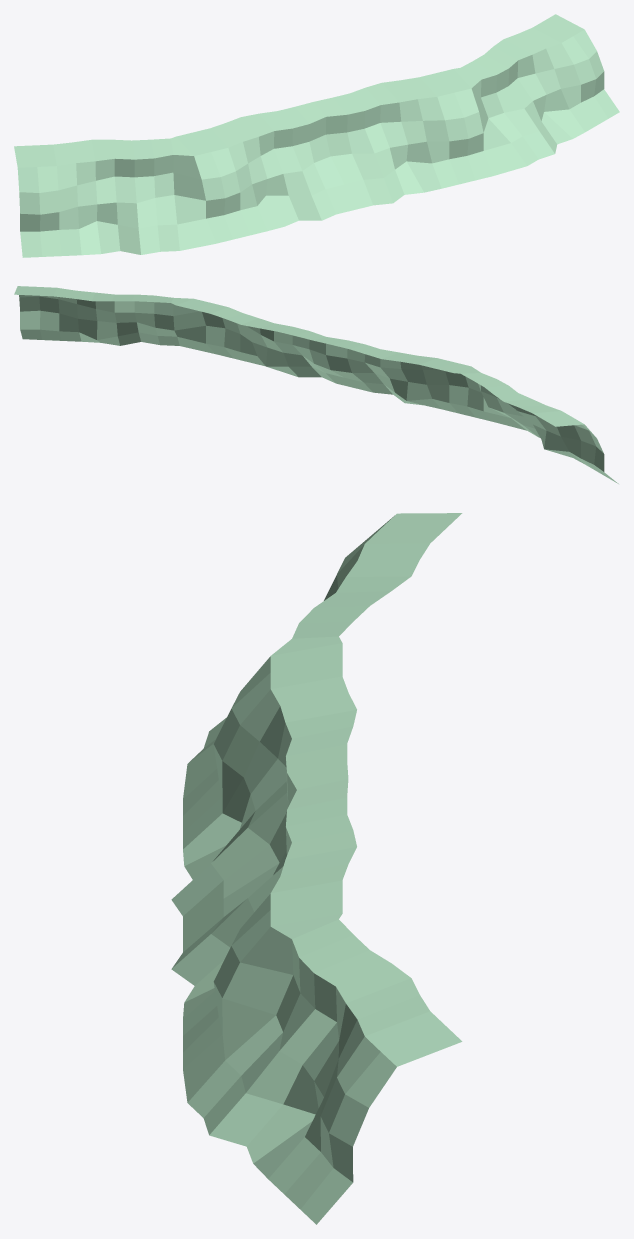
File: Cliff.fbx
3 renders of one model, top to bottom at view 1: azimuth 30°, elevation 25°; view 2: azimuth 150°, elevation 25°; view 3: azimuth 270°, elevation 25°, orthographic. The views are drawn at different scales.
Parts seen in each view (by area): view 1: Cliff; view 2: Cliff; view 3: Cliff.
Part boxes in pixels (left/top/right/bottom): Cliff: left=14, top=14, right=619, bottom=257; Cliff: left=14, top=286, right=618, bottom=483; Cliff: left=171, top=513, right=462, bottom=1224.
Size of the model in its own units: 39858 by 5014 by 8416.
